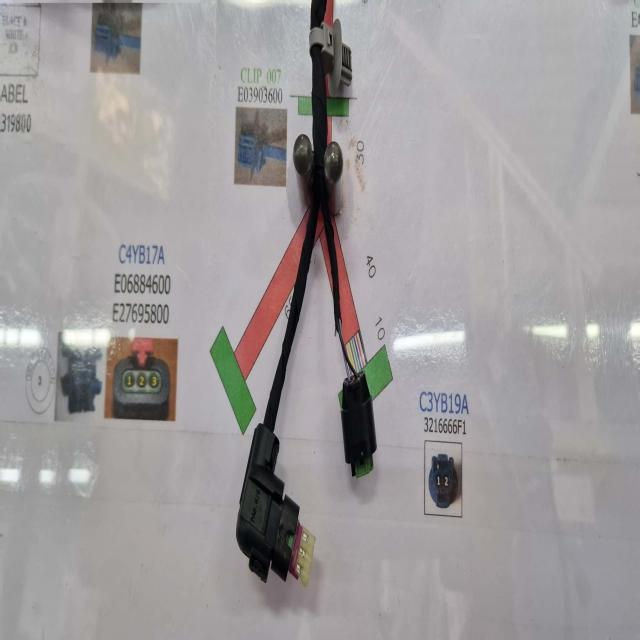Clip: (308, 21, 352, 98)
Connector: (236, 422, 315, 586), (341, 376, 377, 483)
Gape: (339, 320, 366, 386)
MHEV_N11_Cable: (263, 46, 341, 434), (309, 0, 328, 57)
